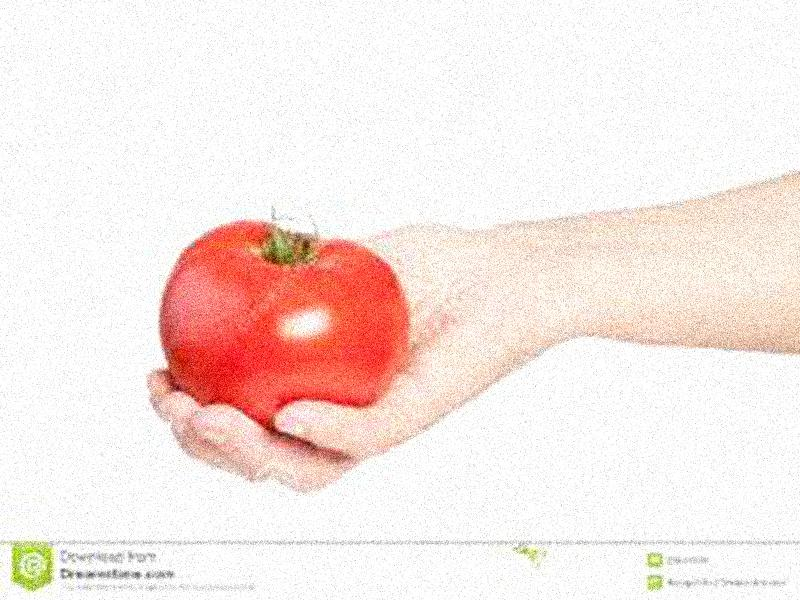Tomato: (159, 218, 412, 429)
